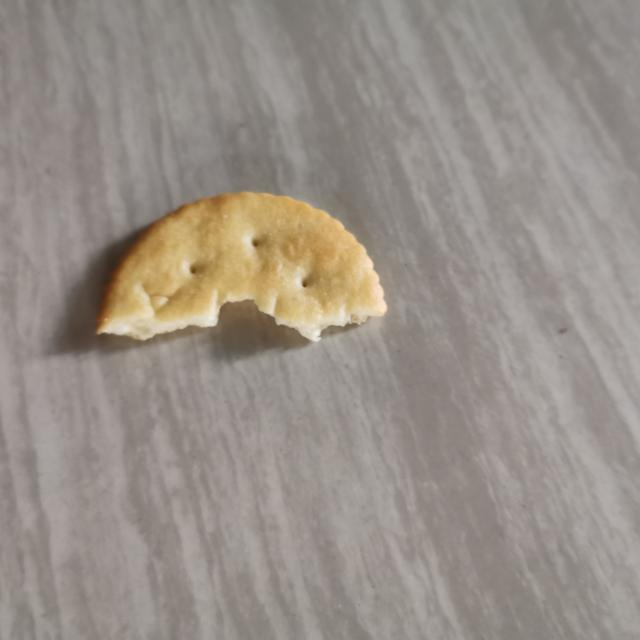Broken: (95, 189, 388, 343)
